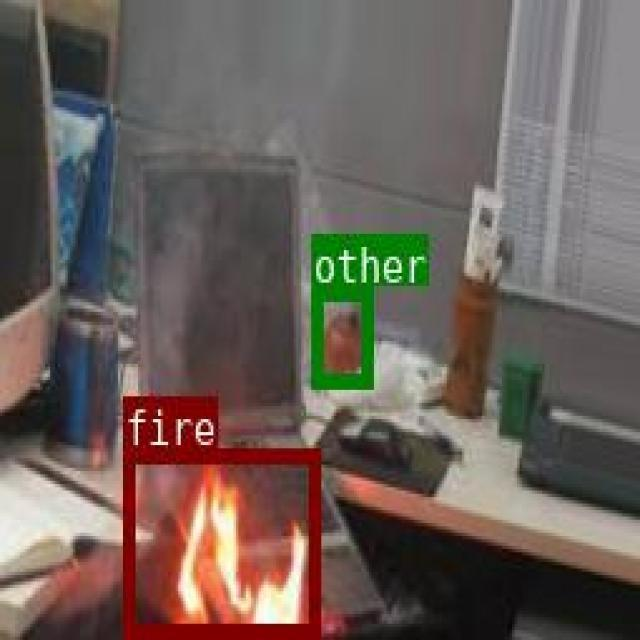fire: (122, 447, 316, 634)
